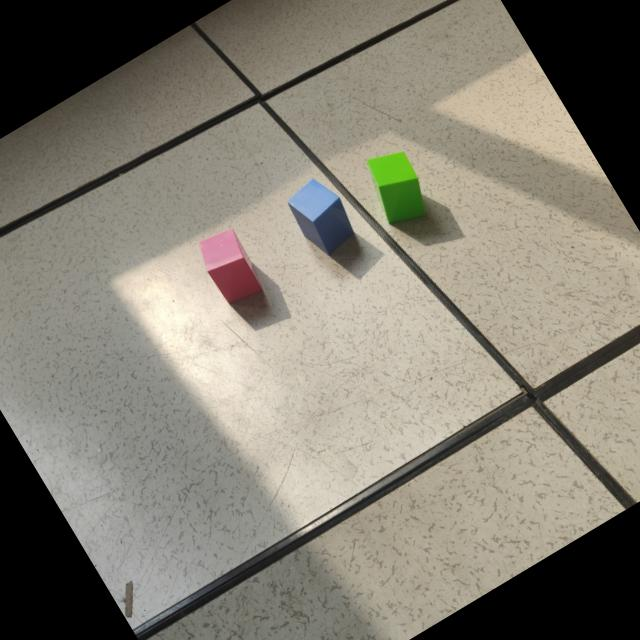blue: (286, 173, 355, 256)
green: (367, 150, 428, 227)
pink: (195, 221, 261, 296)
